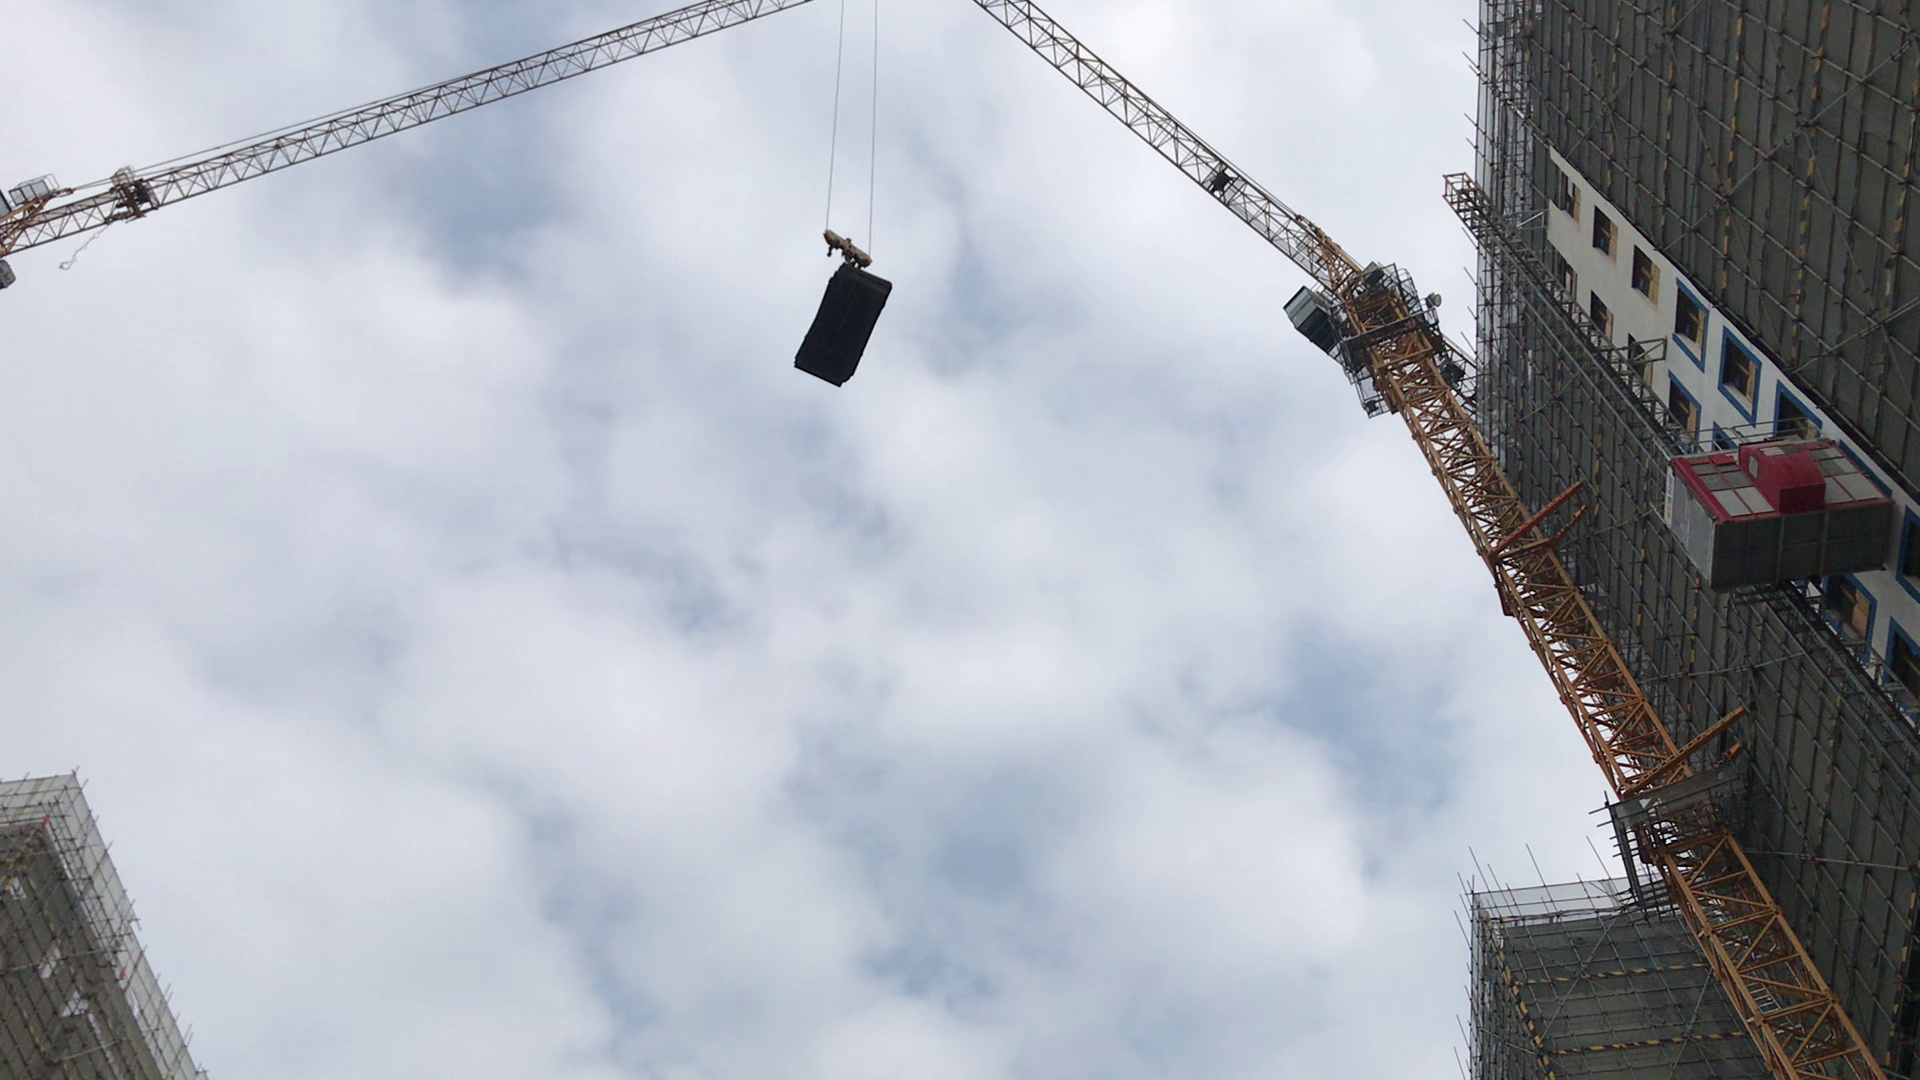board: (791, 265, 893, 389)
hook: (798, 185, 910, 276)
